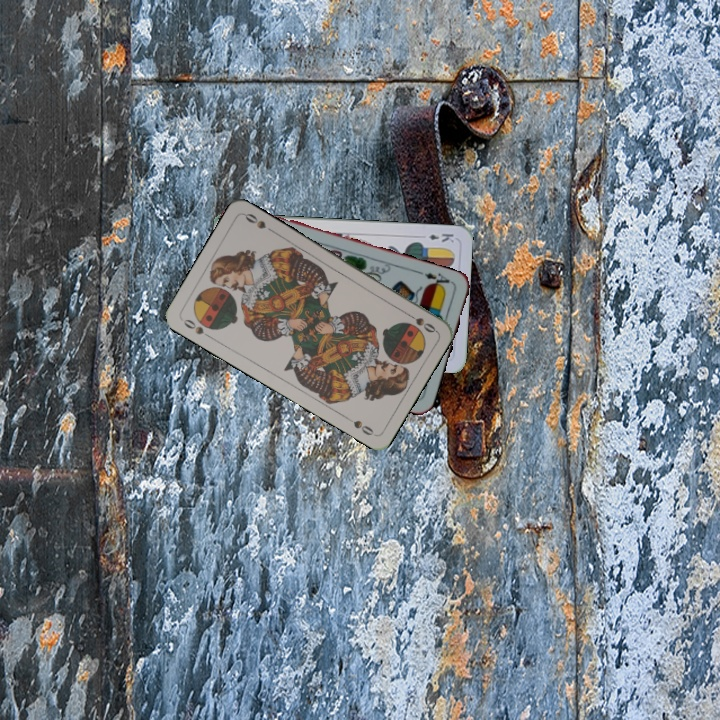EA: (415, 268, 452, 291)
EK: (416, 229, 456, 245)
SO: (402, 308, 438, 335), (179, 315, 215, 341)
